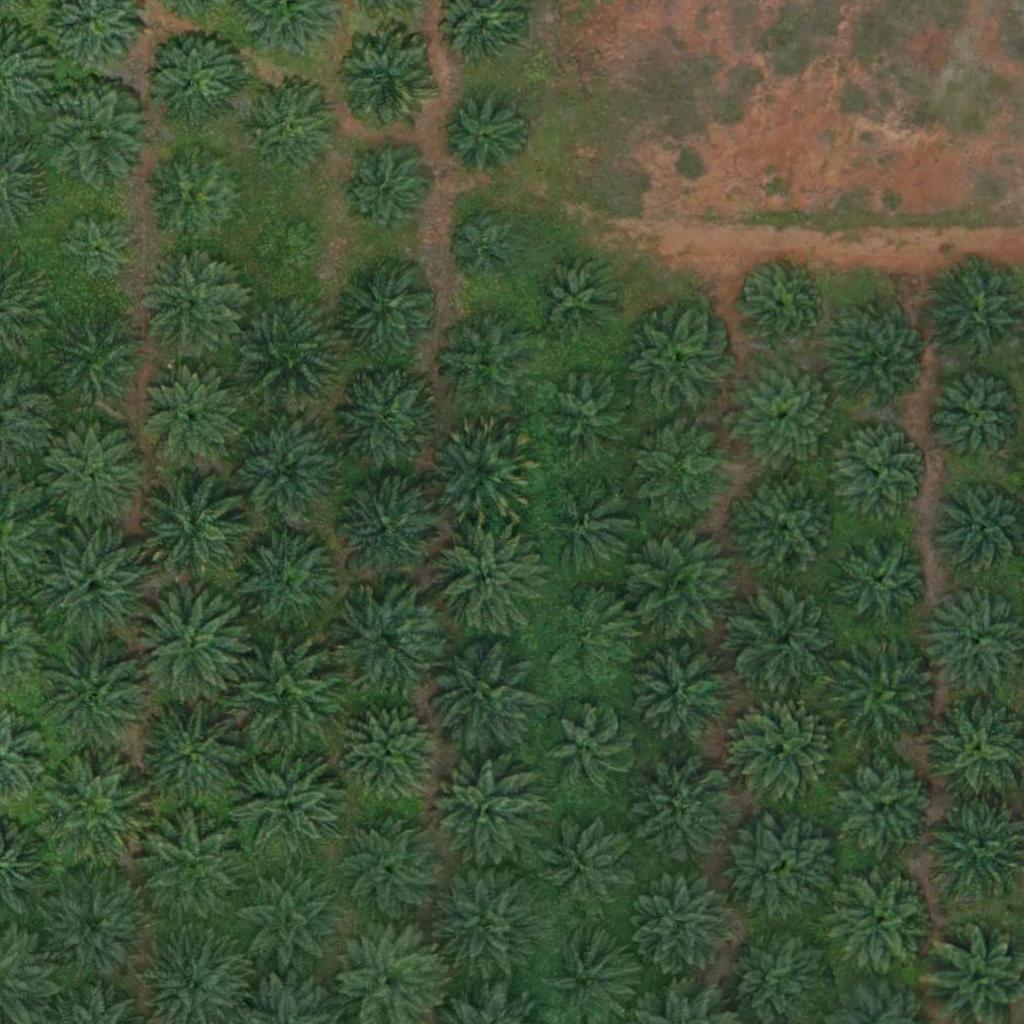Kelapa_Sawit: (39, 636, 152, 750), (137, 812, 250, 926), (728, 360, 841, 474), (732, 472, 845, 586), (829, 636, 942, 750), (230, 867, 343, 981), (426, 416, 539, 529), (329, 257, 442, 370), (40, 529, 153, 642), (134, 590, 247, 703), (136, 699, 249, 812), (430, 520, 543, 633), (425, 637, 538, 750), (429, 759, 542, 872), (627, 867, 740, 980), (40, 761, 152, 875), (330, 365, 442, 478), (231, 294, 343, 407), (229, 416, 341, 529), (36, 870, 148, 983), (137, 470, 249, 583), (227, 523, 339, 636), (226, 639, 338, 752), (234, 753, 346, 866), (329, 586, 441, 699), (333, 810, 445, 923), (432, 867, 544, 980), (630, 530, 742, 643), (628, 638, 740, 751), (732, 587, 844, 700), (731, 811, 843, 924), (434, 313, 534, 414), (245, 76, 345, 177), (143, 25, 243, 126), (147, 144, 247, 245), (139, 252, 239, 353), (139, 363, 239, 464), (44, 82, 144, 183), (46, 308, 146, 409), (44, 424, 144, 525), (335, 478, 435, 579), (338, 701, 438, 802), (636, 762, 736, 863), (734, 698, 834, 799), (831, 312, 931, 413), (836, 755, 936, 856), (829, 870, 929, 971), (335, 31, 435, 131), (627, 312, 727, 412), (640, 422, 740, 522), (831, 421, 931, 521), (834, 532, 934, 632), (439, 95, 527, 183), (534, 257, 622, 345), (545, 487, 633, 575), (550, 377, 637, 465), (341, 147, 428, 235), (549, 591, 636, 679), (544, 705, 631, 793), (545, 821, 632, 909), (735, 260, 822, 348), (57, 214, 132, 289), (452, 215, 515, 278), (254, 218, 316, 281)
